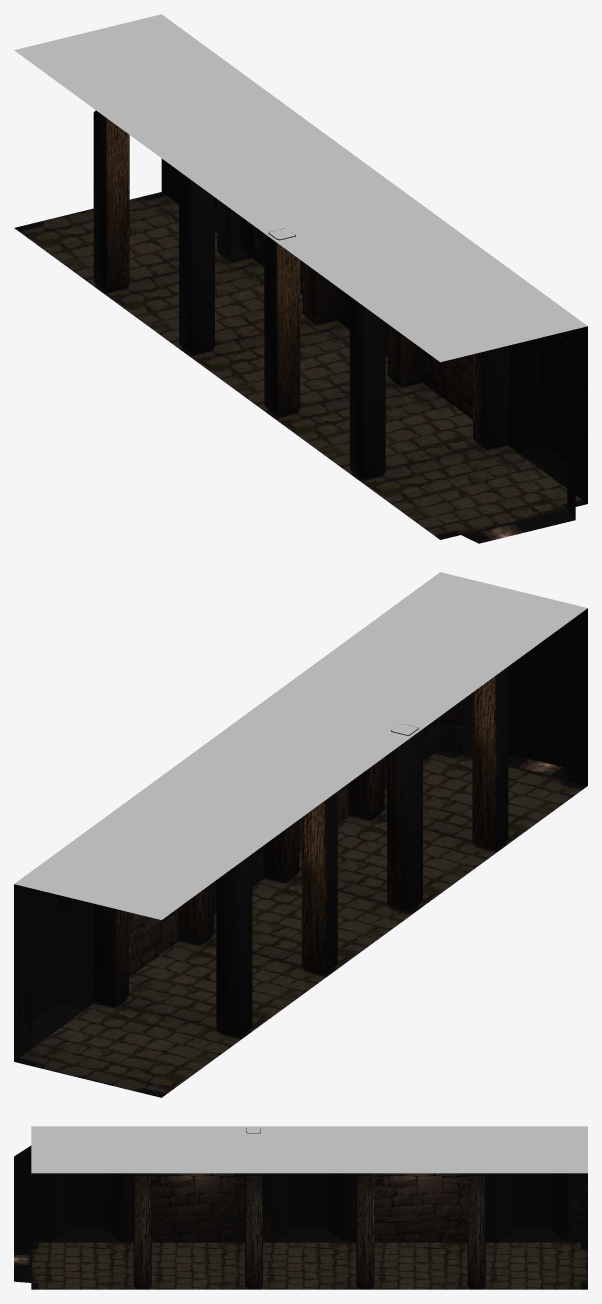
The model's file is Corridor01.fbx.
The picture shows the model from 3 angles, top to bottom: view 1: azimuth 30°, elevation 25°; view 2: azimuth 150°, elevation 25°; view 3: azimuth 270°, elevation 25°; orthographic projection. The views are drawn at different scales.
Visible parts, largest first — view 1: ceiling1, Floor1, Beam, Wall1; view 2: ceiling1, Floor1, Beam, Wall1; view 3: Wall1, ceiling1, Floor1, Beam.
Part boxes in pixels (bbox=[...]): ceiling1: bbox=[14, 14, 587, 362]; Floor1: bbox=[14, 192, 587, 539]; Beam: bbox=[93, 110, 508, 479]; Wall1: bbox=[161, 158, 587, 543]; ceiling1: bbox=[14, 572, 587, 919]; Floor1: bbox=[14, 750, 587, 1097]; Beam: bbox=[93, 668, 508, 1037]; Wall1: bbox=[14, 608, 587, 1061]; Wall1: bbox=[14, 1145, 587, 1282]; ceiling1: bbox=[31, 1126, 587, 1173]; Floor1: bbox=[31, 1242, 587, 1289]; Beam: bbox=[133, 1128, 485, 1288].
Bounding box in the file's own units: 232 × 231 × 1031.
